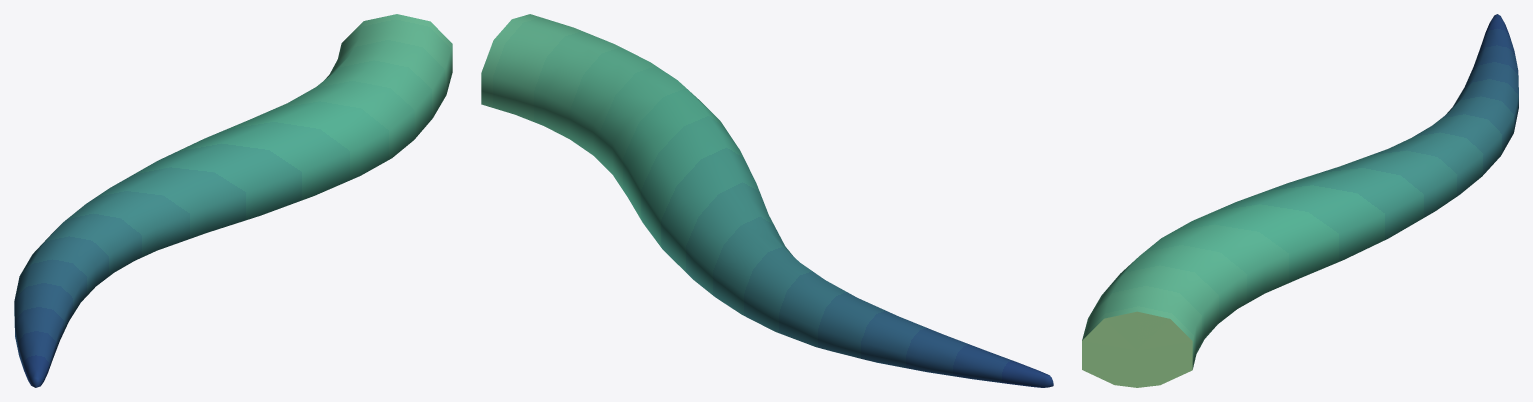
Rendered from Snake_Tongue_Source_2_Adjusted.fbx.
3 renders of one model, left to right at view 1: azimuth 90°, elevation 25°; view 2: azimuth 150°, elevation 25°; view 3: azimuth 270°, elevation 25°, orthographic. The views are drawn at different scales.
Visible parts, largest first — view 1: Snake_Tongue_Source_2_Adjusted; view 2: Snake_Tongue_Source_2_Adjusted; view 3: Snake_Tongue_Source_2_Adjusted.
Boxes of the visible parts, x1,y1,x2,y2 form: Snake_Tongue_Source_2_Adjusted: [14, 14, 452, 387]; Snake_Tongue_Source_2_Adjusted: [481, 14, 1053, 387]; Snake_Tongue_Source_2_Adjusted: [1082, 14, 1518, 387].
Bounding box in the file's own units: 25.78 × 2.76 × 14.33.
